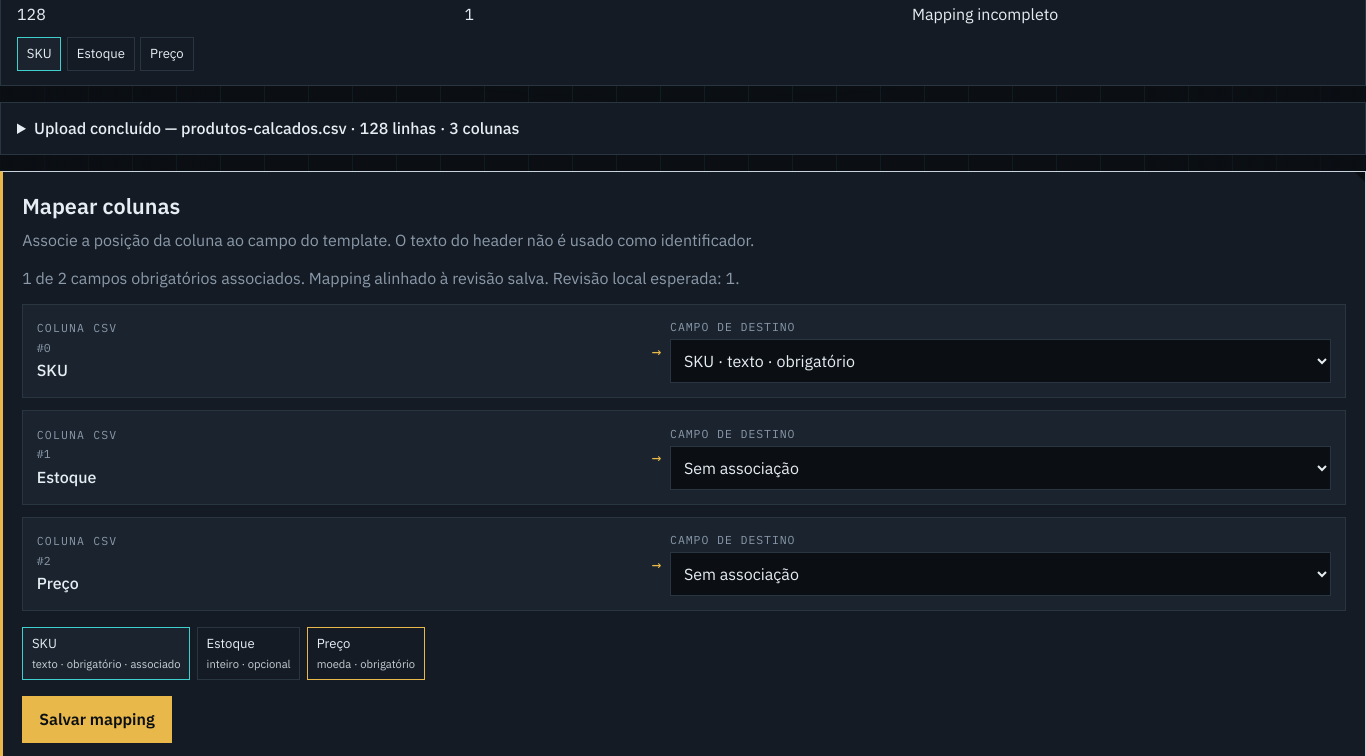
Test: import flow mutations › does not overwrite on mapping revision conflict
(page scrolled)
Select "Preço · moeda · obrigatório" in the dropdown named "destino da coluna" at (1001, 574), box [670,552,1331,596]
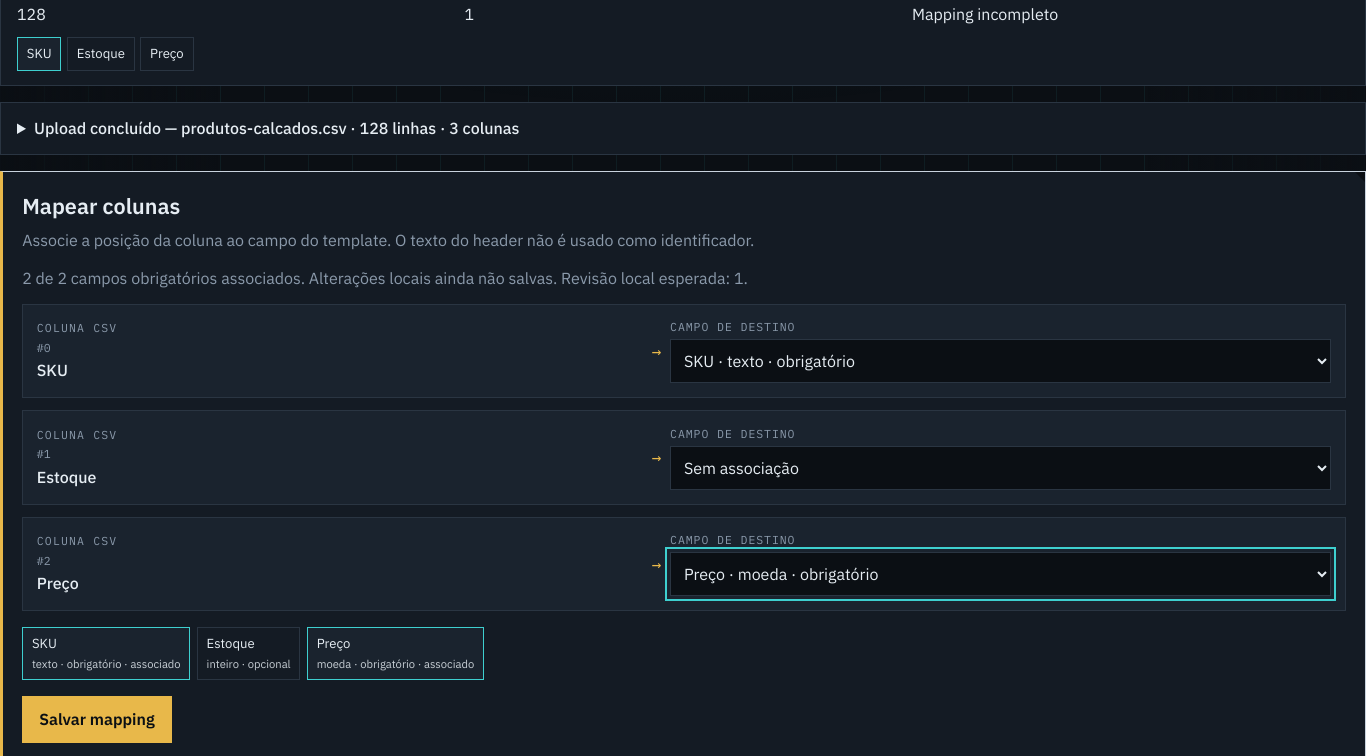
Click the button "Salvar mapping" at (97, 719), box [22,696,172,743]
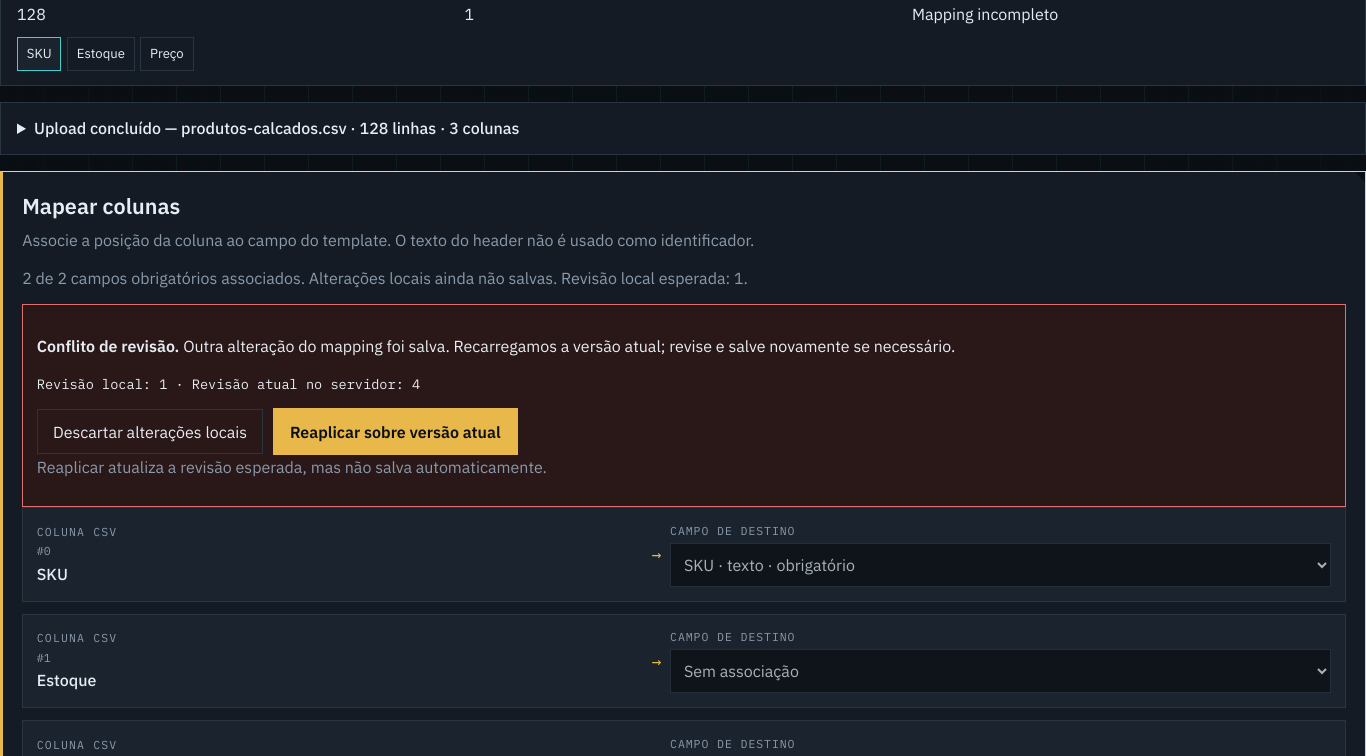
Expected: the text "Outra alteração do mapping foi salva" is shown, [183,336,955,356]
Expected: the button "Descartar alterações locais" is shown, [37,409,263,454]
Expected: the button "Reaplicar sobre versão atual" is shown, [273,408,518,455]
